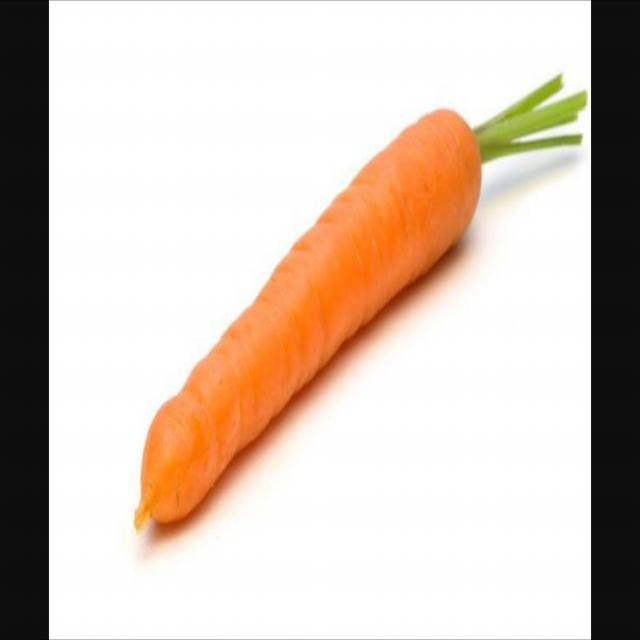Carrot: (138, 70, 589, 529)
